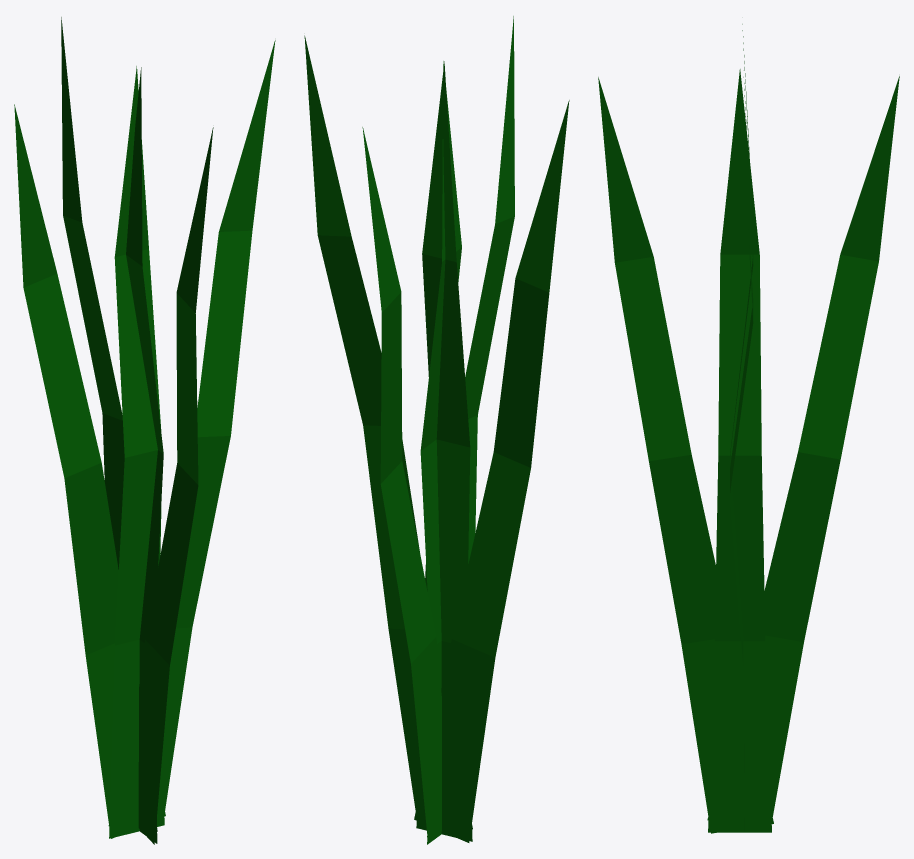
File: grass.gltf
The picture shows the model from 3 angles, left to right: view 1: azimuth 30°, elevation 25°; view 2: azimuth 150°, elevation 25°; view 3: azimuth 270°, elevation 25°; orthographic projection.
Parts seen in each view (by area): view 1: Plano; view 2: Plano; view 3: Plano.
Part boxes in pixels (x1,y1,x2,y2): Plano: (14,17,275,844); Plano: (304,16,569,844); Plano: (598,24,899,833).
Size of the model in its own units: 0.7147 by 2 by 0.7147.
Materials: 2 (2 with a texture image).
